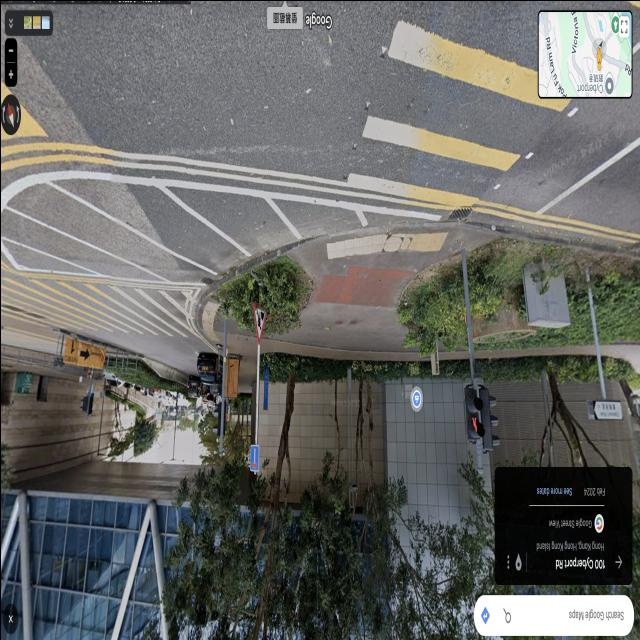Warning-Sign: (251, 301, 266, 344)
